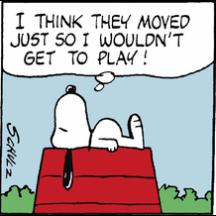snoopy: (50, 84, 146, 191)
